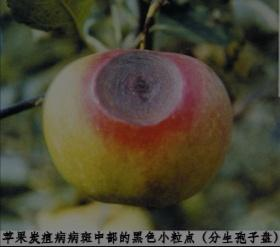rotten apple: (41, 48, 238, 208)
